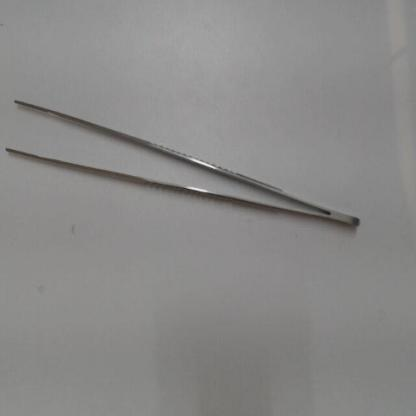DeBakey Dissector: (2, 84, 379, 262)
